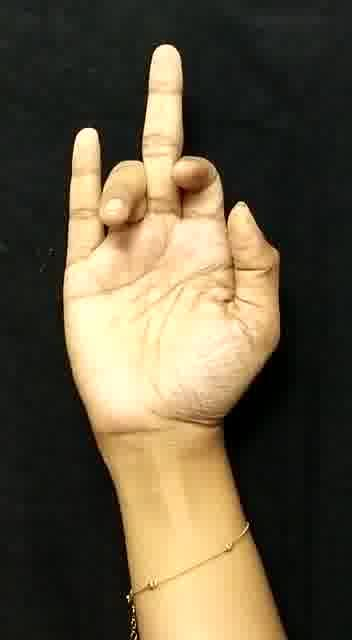shuktund: (32, 38, 296, 452)
